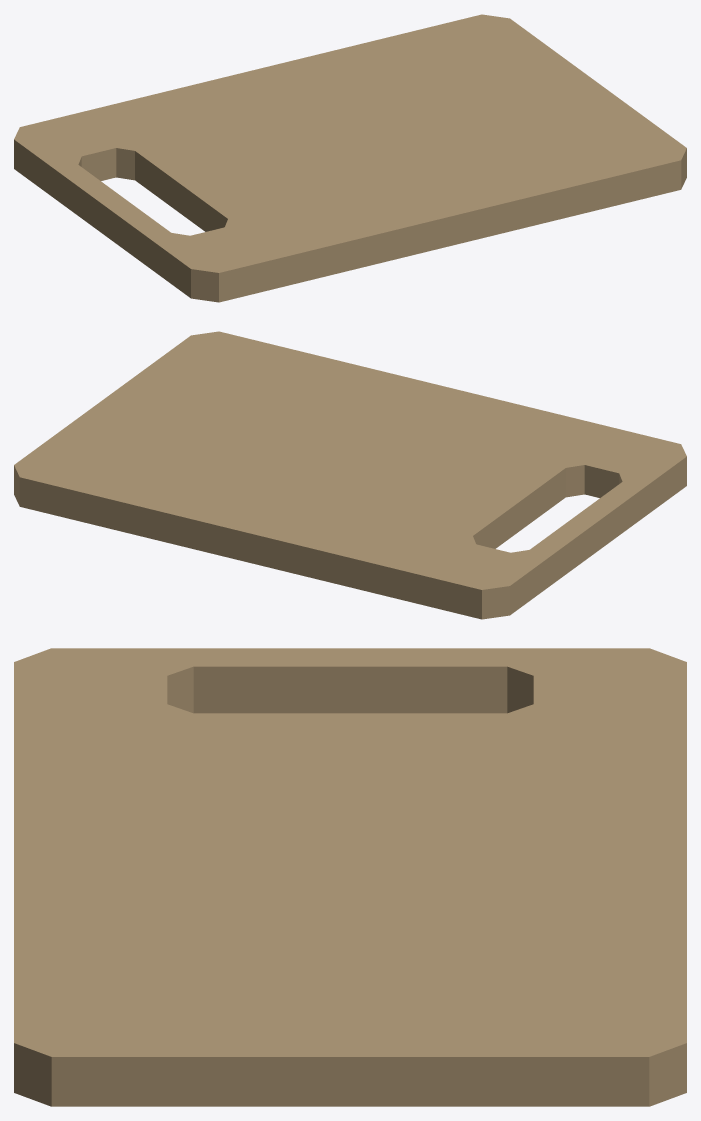
Rendered from SM_Prop_CuttingBoard_01.obj.
3 renders of one model, top to bottom at view 1: azimuth 30°, elevation 25°; view 2: azimuth 150°, elevation 25°; view 3: azimuth 270°, elevation 25°, orthographic. The views are drawn at different scales.
Visible parts, largest first — view 1: SM_Prop_CuttingBoard_01_0; view 2: SM_Prop_CuttingBoard_01_0; view 3: SM_Prop_CuttingBoard_01_0.
Part boxes in pixels (bbox=[...]): SM_Prop_CuttingBoard_01_0: bbox=[14, 14, 686, 302]; SM_Prop_CuttingBoard_01_0: bbox=[14, 331, 686, 619]; SM_Prop_CuttingBoard_01_0: bbox=[14, 648, 686, 1106].
Size of the model in its own units: 0.5366 by 0.0305 by 0.3734.
1 material, 1 textured.
